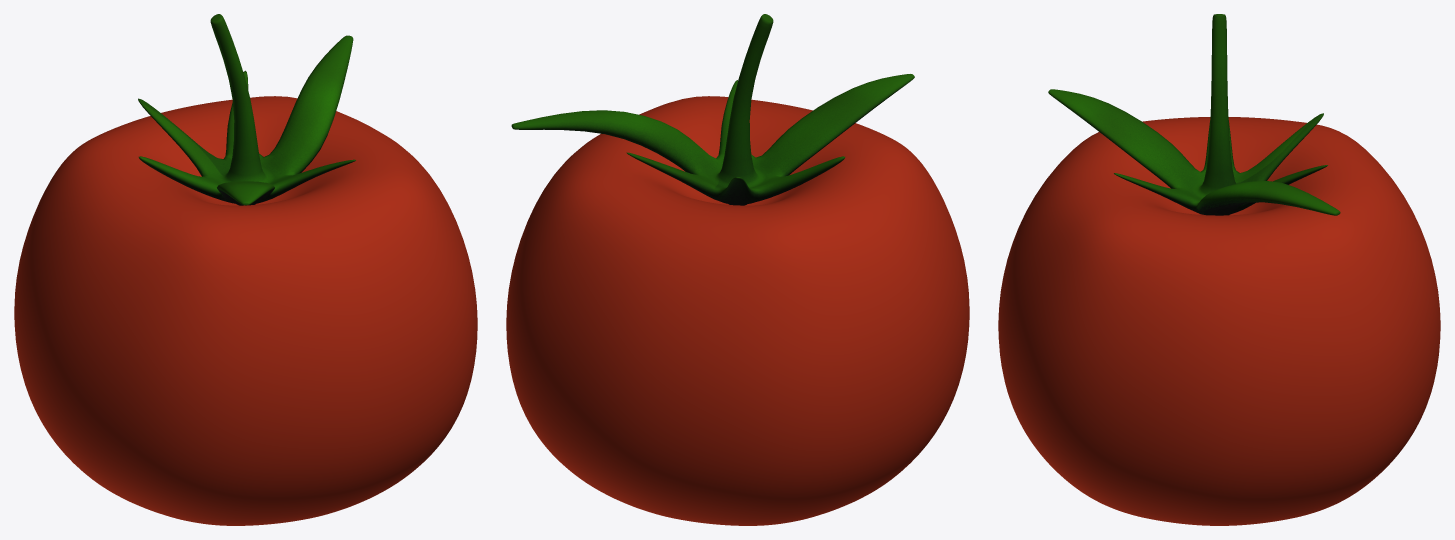
The model's file is Tomato.fbx.
3 views of the same model, side by side, from view 1: azimuth 30°, elevation 25°; view 2: azimuth 150°, elevation 25°; view 3: azimuth 270°, elevation 25° (orthographic). The views are drawn at different scales.
Parts seen in each view (by area): view 1: Cube, Cylinder; view 2: Cube, Cylinder; view 3: Cube, Cylinder.
Part boxes in pixels (x1,y1,x2,y2): Cube: (14,96,477,525); Cylinder: (138,14,355,205); Cube: (506,96,969,525); Cylinder: (511,14,914,205); Cube: (998,117,1440,525); Cylinder: (1048,14,1340,215).
Bounding box in the file's own units: 343 × 393 × 343.
Materials: 2 (1 with a texture image).
